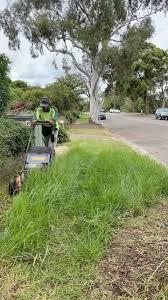overgrown grass: (0, 140, 167, 299), (19, 217, 26, 220)
